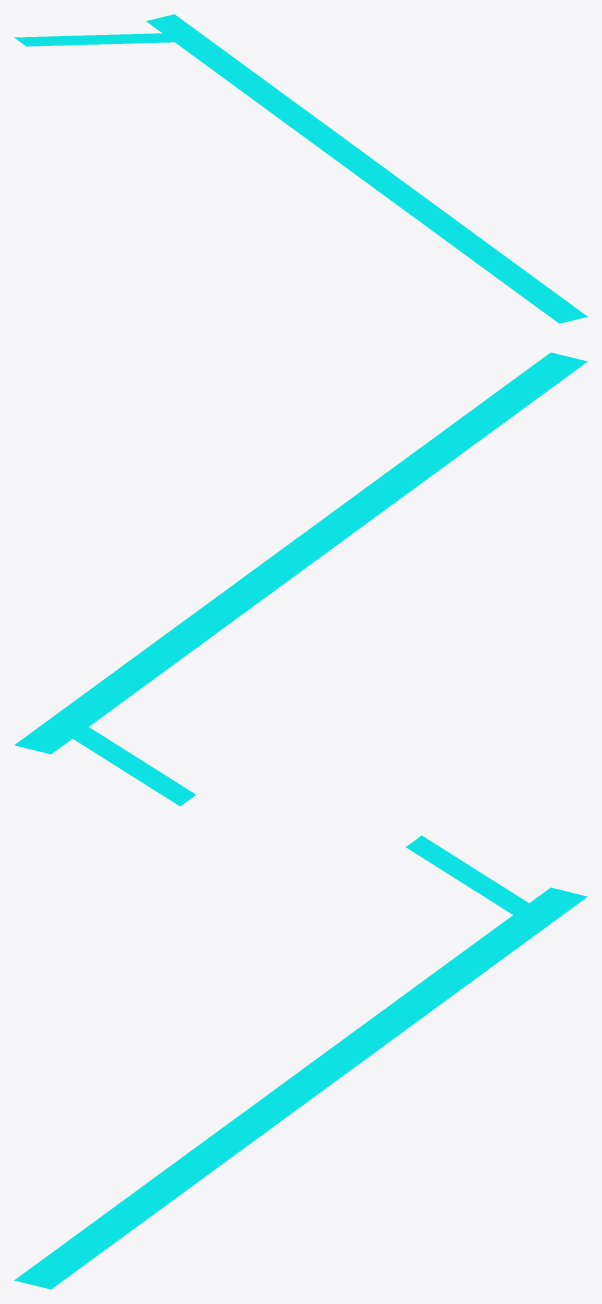
File: 022shemi00250075kts.dae
3 renders of one model, top to bottom at view 1: azimuth 30°, elevation 25°; view 2: azimuth 150°, elevation 25°; view 3: azimuth 330°, elevation 25°, orthographic. The views are drawn at different scales.
Parts seen in each view (by area): view 1: Plane; view 2: Plane; view 3: Plane.
Part boxes in pixels (box(x1,y1,x2,y2)): Plane: box(14, 14, 587, 323); Plane: box(14, 352, 587, 806); Plane: box(14, 835, 587, 1289).
Bounding box in the file's own units: 20.15 × 104 × 0.
